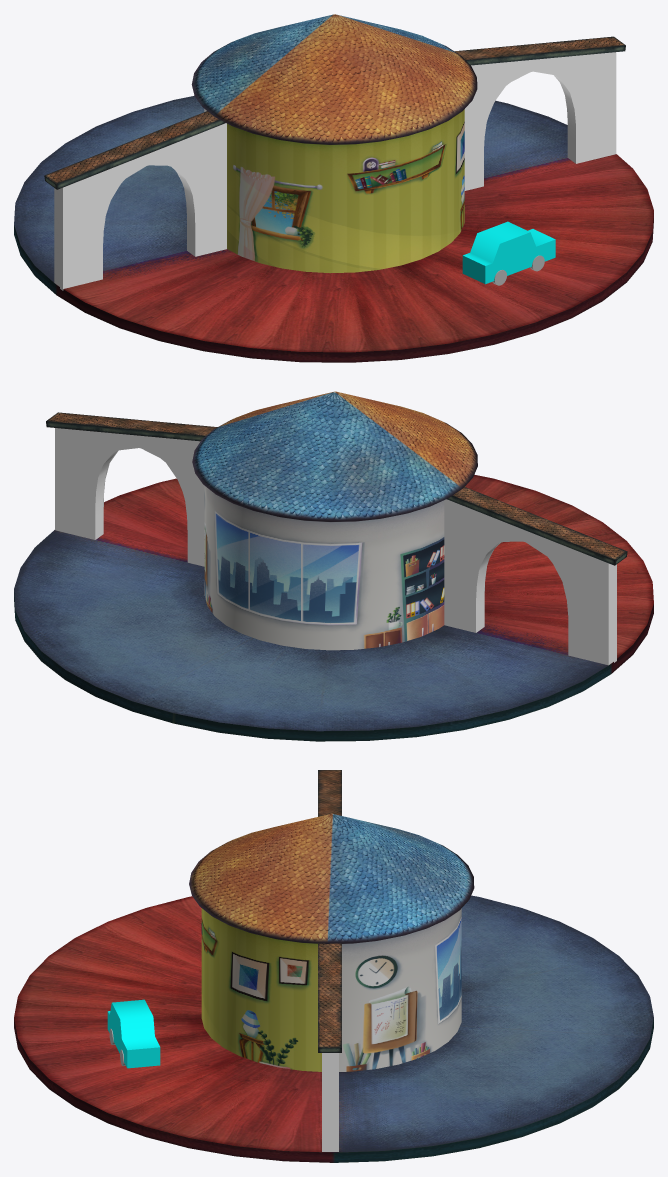
The model's file is Set_anim_Test_02_GLB.glb.
3 renders of one model, top to bottom at view 1: azimuth 30°, elevation 25°; view 2: azimuth 150°, elevation 25°; view 3: azimuth 270°, elevation 25°, orthographic.
Visible parts, largest first — view 1: |polySurface31_4, |polySurface31_3, |polySurface31_1, |polySurface31_2, polySurface22_2; view 2: |polySurface31_4, |polySurface31_3, |polySurface31_1, |polySurface31_2; view 3: |polySurface31_4, |polySurface31_3, |polySurface31_2, polySurface22_2, |polySurface31_1.
Boxes of the visible parts, x1,y1,x2,y2 form: |polySurface31_4: (14,95,653,362); |polySurface31_3: (191,14,477,273); |polySurface31_1: (54,52,616,290); |polySurface31_2: (44,36,625,189); polySurface22_2: (462,221,555,284); |polySurface31_4: (14,474,653,741); |polySurface31_3: (192,391,477,650); |polySurface31_1: (55,428,616,665); |polySurface31_2: (46,412,627,565); |polySurface31_4: (14,895,653,1162); |polySurface31_3: (189,813,474,1071); |polySurface31_2: (318,770,341,1052); polySurface22_2: (107,999,160,1068); |polySurface31_1: (322,1053,338,1151).
Bounding box in the file's own units: 173 × 63.36 × 168.
Materials: 6 (3 with a texture image).
